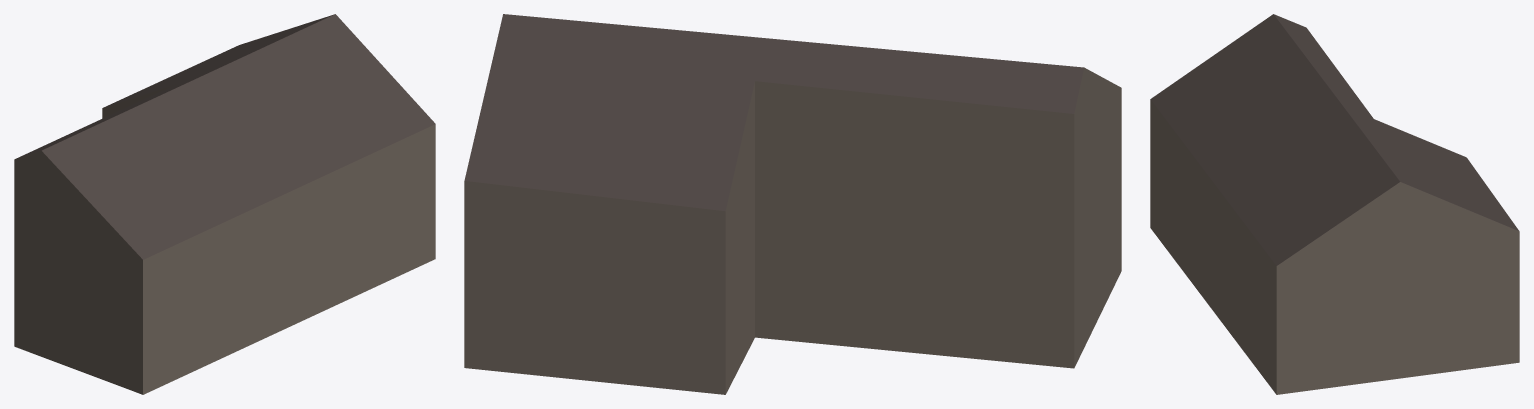
3 renders of one model, left to right at view 1: azimuth 30°, elevation 25°; view 2: azimuth 150°, elevation 25°; view 3: azimuth 270°, elevation 25°, orthographic. The views are drawn at different scales.
Visible parts, largest first — view 1: HP-w435452359; view 2: HP-w435452359; view 3: HP-w435452359.
Boxes of the visible parts, x1,y1,x2,y2 form: HP-w435452359: (14,14,435,394); HP-w435452359: (464,14,1121,394); HP-w435452359: (1150,14,1519,394).
Bounding box in the file's own units: 28.32 × 13.74 × 23.38.
